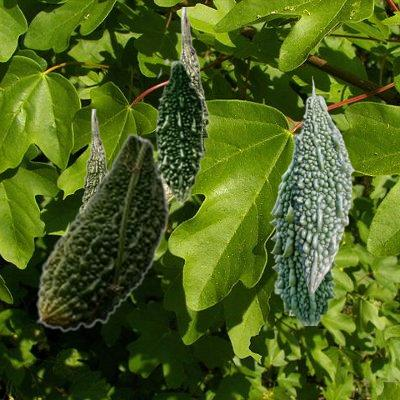ampalaya: (36, 133, 169, 331), (290, 76, 353, 294), (269, 134, 336, 324), (169, 7, 209, 201), (155, 58, 206, 204), (78, 109, 107, 209)
